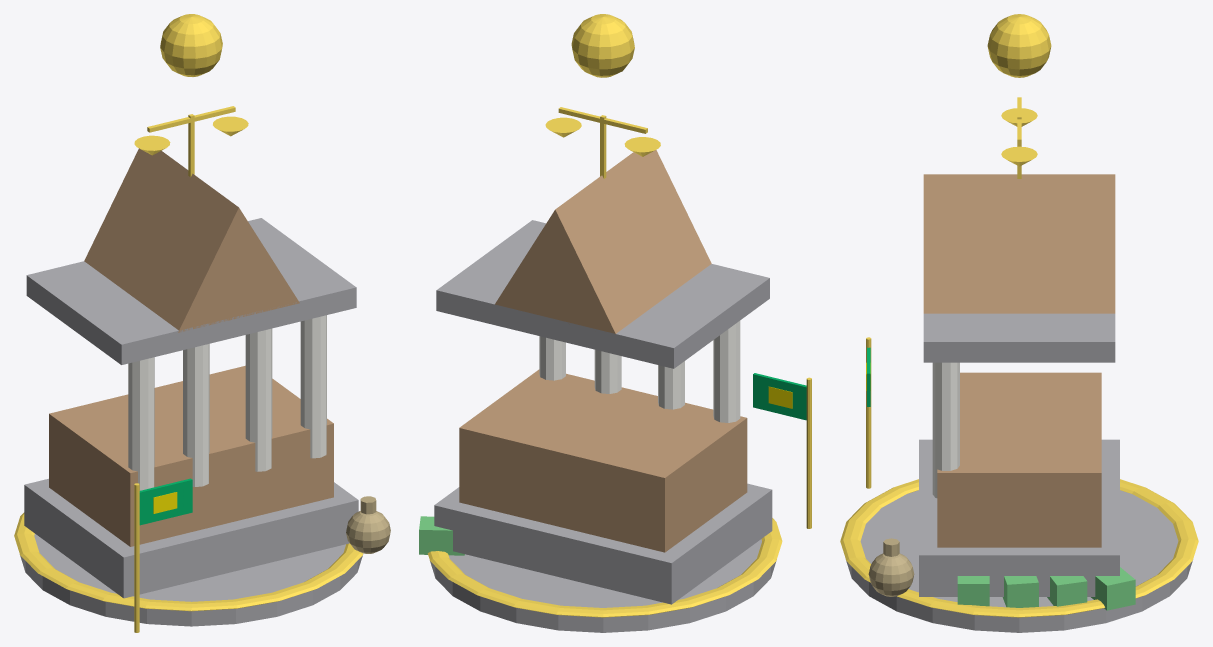
The model's file is Tribunal_L4.fbx.
The picture shows the model from 3 angles, left to right: view 1: azimuth 30°, elevation 25°; view 2: azimuth 150°, elevation 25°; view 3: azimuth 270°, elevation 25°; orthographic projection.
Visible parts, largest first — view 1: Tribunal_L4.001; view 2: Tribunal_L4.001; view 3: Tribunal_L4.001.
Part boxes in pixels (x1,y1,x2,y2): Tribunal_L4.001: (14,14,390,632); Tribunal_L4.001: (419,14,811,632); Tribunal_L4.001: (840,14,1198,632).
Bounding box in the file's own units: 3.92 × 6.55 × 3.92.
